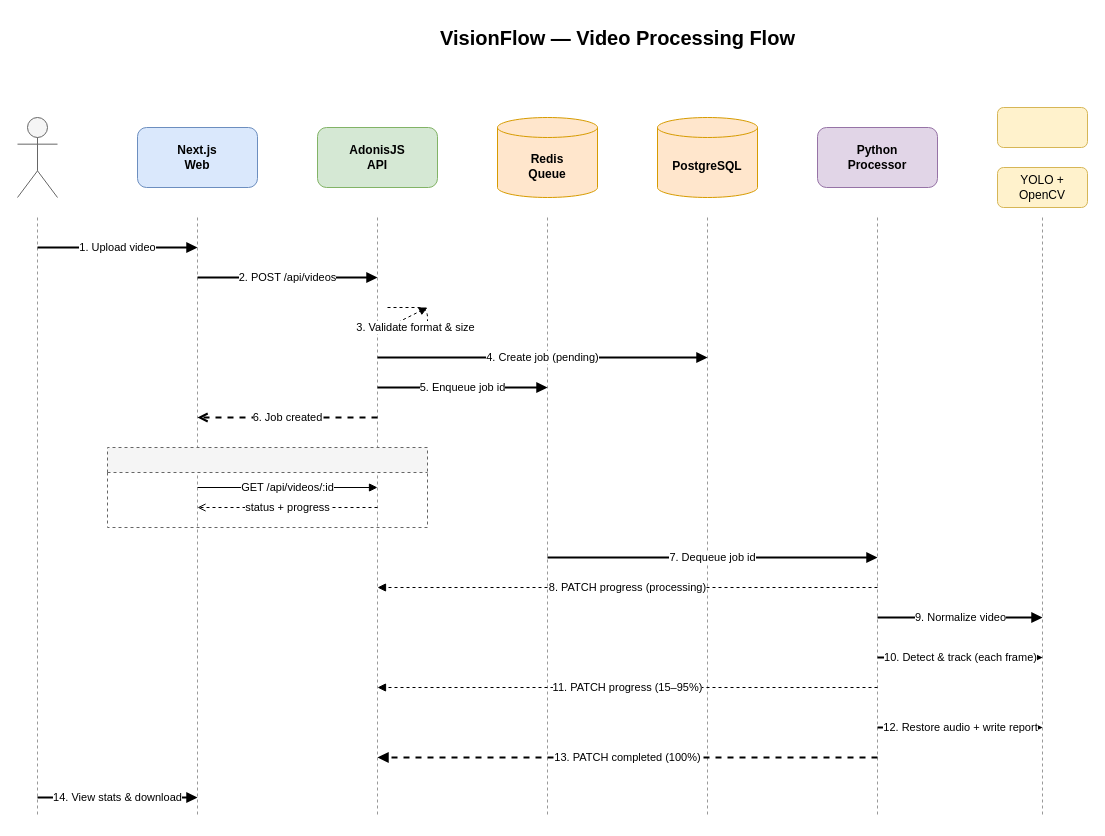
The diagram is 1105 pixels wide and 836 high, and some of its shapes have lost their labels. Each missing label, with the centre of its shape:
FFmpeg: the point at 1042,127
Poll every 2s: the point at 267,487
User: the point at 37,157
